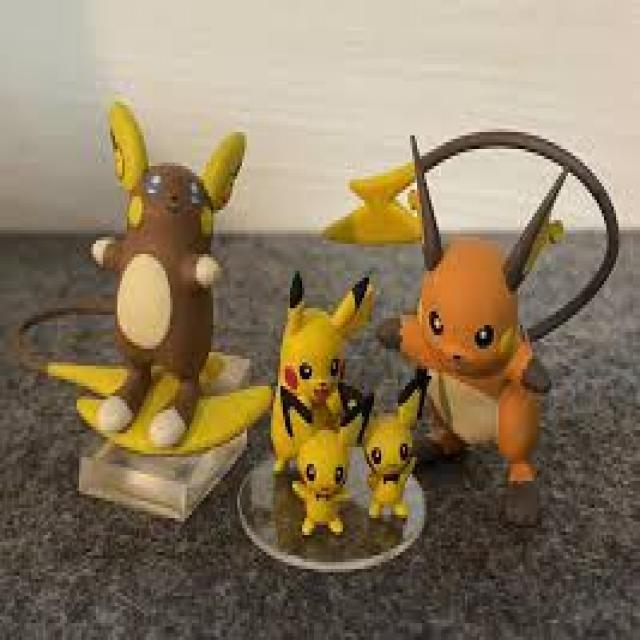pichu: (358, 367, 446, 576), (284, 368, 361, 562)
